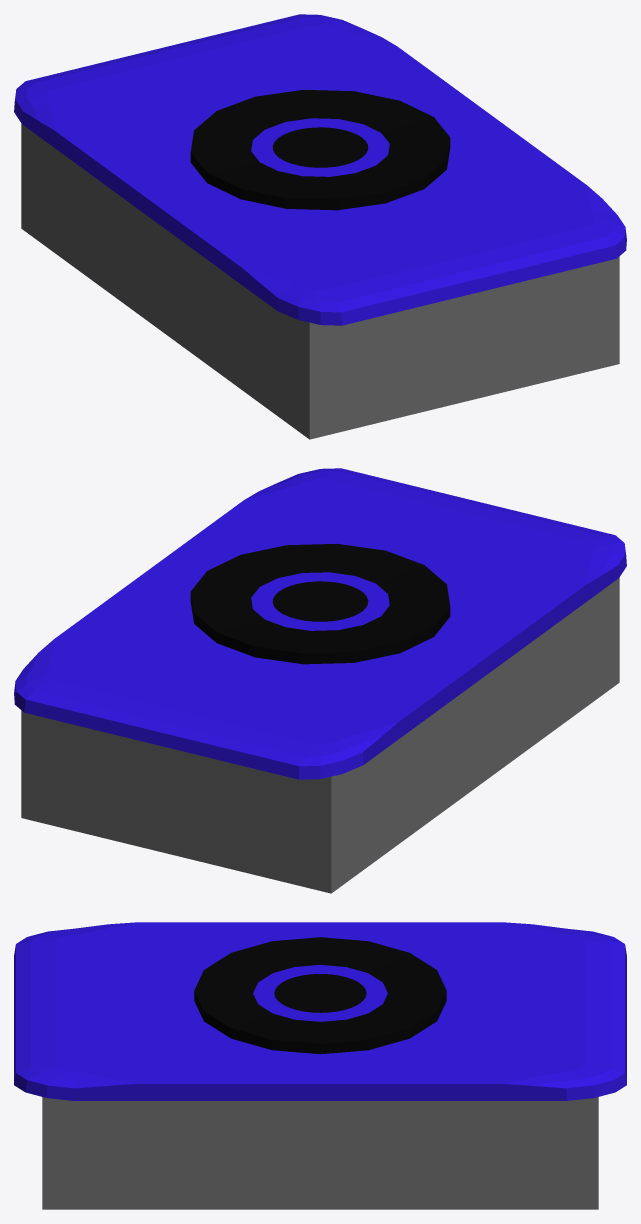
File: TomacorrienteTrifásico_LP.fbx
The picture shows the model from 3 angles, top to bottom: view 1: azimuth 30°, elevation 25°; view 2: azimuth 150°, elevation 25°; view 3: azimuth 270°, elevation 25°; orthographic projection. The views are drawn at different scales.
Visible parts, largest first — view 1: Marco_LP, Case_LP, CilindroA_LP, CilindroB_LP; view 2: Marco_LP, Case_LP, CilindroA_LP, CilindroB_LP; view 3: Marco_LP, Case_LP, CilindroA_LP, CilindroB_LP.
Boxes of the visible parts, x1,y1,x2,y2 form: Marco_LP: [14, 14, 626, 325]; Case_LP: [21, 123, 619, 439]; CilindroA_LP: [190, 89, 450, 210]; CilindroB_LP: [251, 118, 389, 176]; Marco_LP: [14, 468, 626, 779]; Case_LP: [21, 577, 619, 893]; CilindroA_LP: [190, 543, 450, 664]; CilindroB_LP: [251, 572, 389, 630]; Marco_LP: [14, 922, 626, 1100]; Case_LP: [42, 1097, 598, 1209]; CilindroA_LP: [194, 937, 446, 1054]; CilindroB_LP: [253, 965, 387, 1021].
Size of the model in its own units: 126 by 53.02 by 201.
